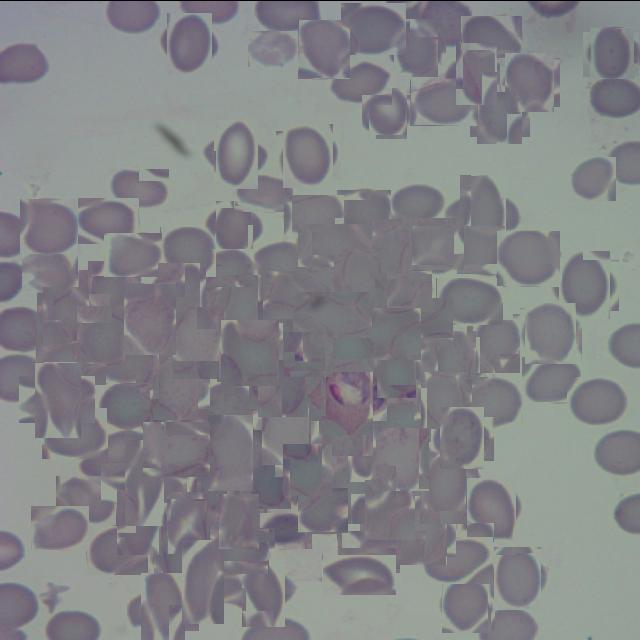leukocyte: (112, 451, 176, 514), (75, 428, 152, 480), (172, 550, 236, 612), (452, 182, 514, 244), (26, 368, 88, 430), (168, 312, 230, 374), (118, 286, 180, 348), (219, 320, 281, 382), (142, 421, 210, 476), (200, 422, 261, 482), (293, 291, 372, 337), (392, 500, 452, 560), (554, 254, 614, 314), (252, 352, 312, 412), (322, 458, 382, 518), (263, 270, 338, 318), (371, 429, 431, 489), (496, 230, 560, 286), (383, 297, 453, 348), (341, 2, 406, 54), (356, 307, 421, 359), (42, 407, 108, 458), (462, 480, 520, 538), (414, 458, 472, 516), (280, 126, 338, 184), (134, 579, 192, 637), (36, 336, 106, 384), (258, 402, 316, 459), (147, 356, 204, 414), (297, 223, 372, 267), (423, 536, 493, 583), (522, 304, 580, 360), (436, 277, 503, 325), (86, 525, 150, 575), (410, 78, 478, 125), (192, 381, 258, 429), (461, 376, 523, 427), (208, 126, 264, 182), (236, 564, 292, 620), (425, 335, 481, 391), (490, 550, 546, 606), (192, 248, 256, 297), (154, 266, 210, 322), (336, 253, 392, 309), (20, 198, 77, 253), (100, 381, 162, 431), (567, 376, 629, 426), (298, 19, 350, 78), (322, 554, 396, 595), (408, 216, 463, 271), (112, 494, 166, 550), (362, 482, 418, 536), (371, 397, 439, 441), (469, 315, 524, 369), (162, 15, 216, 70), (316, 412, 370, 467), (503, 54, 557, 109), (361, 220, 415, 275), (56, 475, 116, 524), (521, 356, 582, 404), (436, 410, 490, 464), (74, 307, 128, 360), (216, 280, 269, 334), (98, 343, 167, 384), (440, 578, 493, 631), (84, 264, 136, 318), (78, 197, 139, 243), (160, 226, 216, 276), (329, 60, 392, 104), (209, 528, 269, 574), (254, 239, 310, 288), (474, 88, 526, 140), (450, 47, 502, 99), (461, 14, 522, 58), (391, 22, 442, 74), (161, 496, 213, 547), (41, 289, 92, 341), (337, 530, 400, 572), (108, 168, 170, 210), (282, 444, 333, 495), (418, 374, 468, 426), (376, 266, 432, 312), (283, 194, 344, 236), (104, 232, 162, 276), (31, 505, 89, 549), (586, 28, 636, 79), (336, 188, 391, 234), (246, 454, 296, 504), (390, 182, 446, 225), (458, 224, 506, 274), (21, 251, 78, 293), (586, 78, 640, 122), (158, 532, 206, 580), (215, 497, 263, 545), (326, 324, 374, 372), (297, 487, 348, 532), (234, 174, 294, 212), (286, 330, 332, 378), (366, 90, 411, 136), (570, 156, 616, 200), (194, 464, 238, 509), (270, 317, 317, 359), (259, 512, 312, 549), (212, 204, 256, 248), (144, 394, 188, 438), (248, 30, 300, 66), (375, 354, 417, 396)
schizont: (314, 361, 380, 426)
